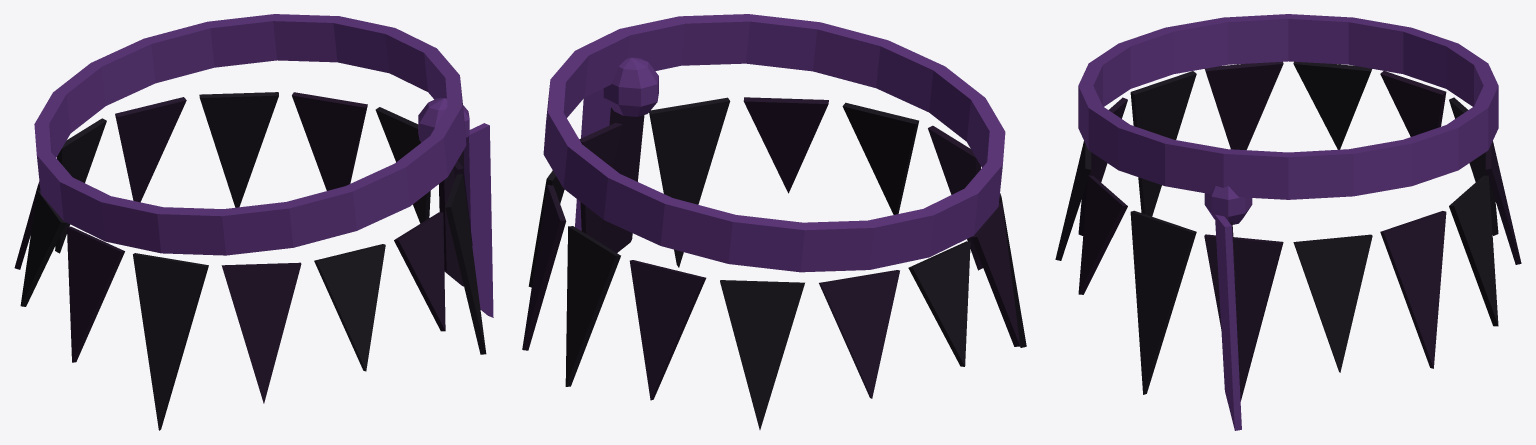
The model's file is uninvited_courtier_sash.glb.
3 views of the same model, side by side, from view 1: azimuth 30°, elevation 25°; view 2: azimuth 150°, elevation 25°; view 3: azimuth 270°, elevation 25° (orthographic). The views are drawn at different scales.
Visible parts, largest first — view 1: uninvited_courtier_sash; view 2: uninvited_courtier_sash; view 3: uninvited_courtier_sash.
Boxes of the visible parts, bbox=[...] form: uninvited_courtier_sash: bbox=[14, 14, 493, 430]; uninvited_courtier_sash: bbox=[522, 14, 1026, 429]; uninvited_courtier_sash: bbox=[1055, 14, 1521, 430].
Bounding box in the file's own units: 0.976 × 0.571 × 0.9316.
